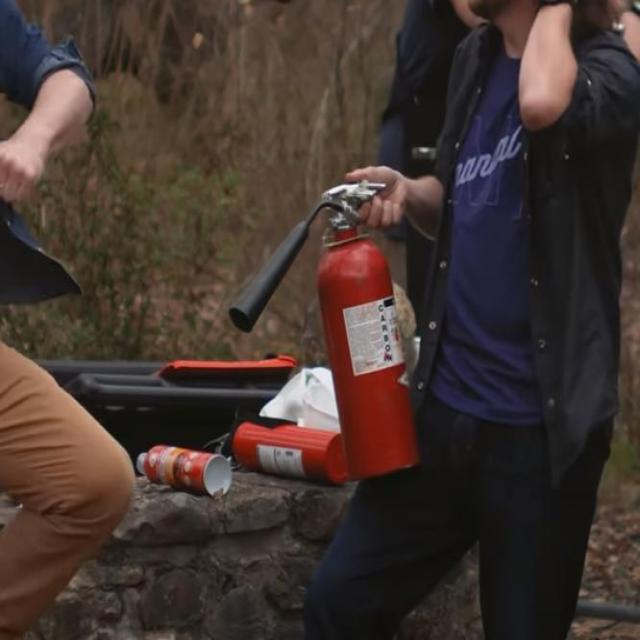fire_extinguisher: (224, 174, 426, 482), (198, 395, 350, 491), (125, 434, 234, 502)
